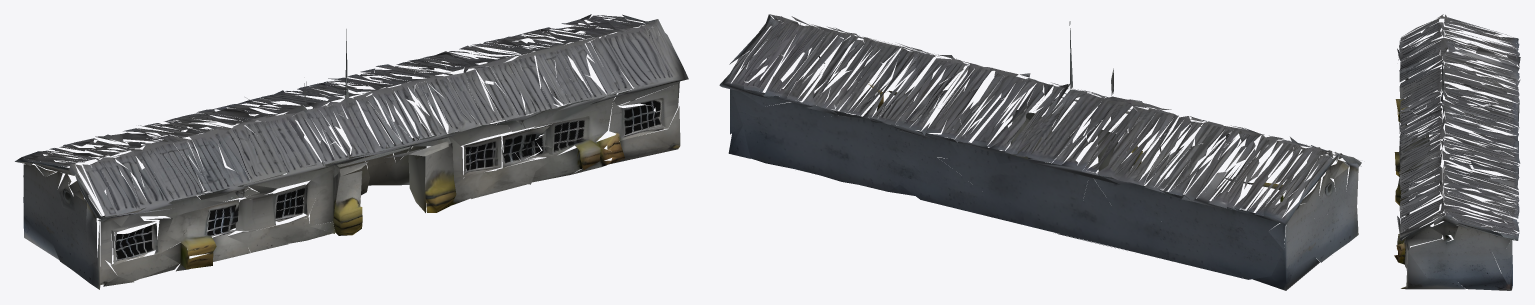
File: barracks_lod1.glb
The picture shows the model from 3 angles, left to right: view 1: azimuth 30°, elevation 25°; view 2: azimuth 150°, elevation 25°; view 3: azimuth 270°, elevation 25°; orthographic projection. The views are drawn at different scales.
Visible parts, largest first — view 1: body; view 2: body; view 3: body.
Part boxes in pixels (bbox=[...]): body: bbox=[15, 14, 688, 289]; body: bbox=[719, 14, 1361, 290]; body: bbox=[1394, 14, 1520, 290].
Size of the model in its own units: 12.1 by 3.6 by 3.17.
1 material, 1 textured.
